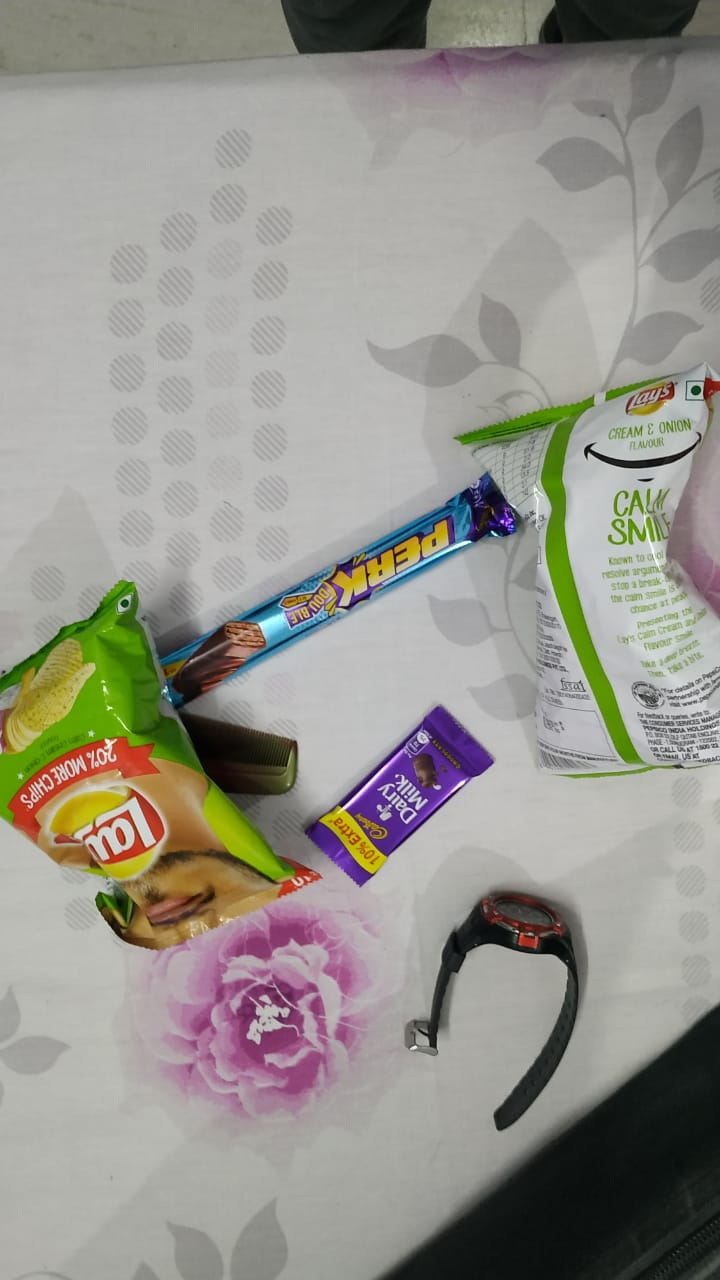dairy milk: (303, 696, 496, 884)
lays chips: (1, 569, 323, 1012), (462, 366, 720, 783)
perk: (145, 443, 517, 682)
